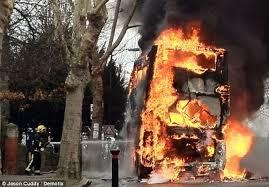fire: (131, 21, 261, 182)
